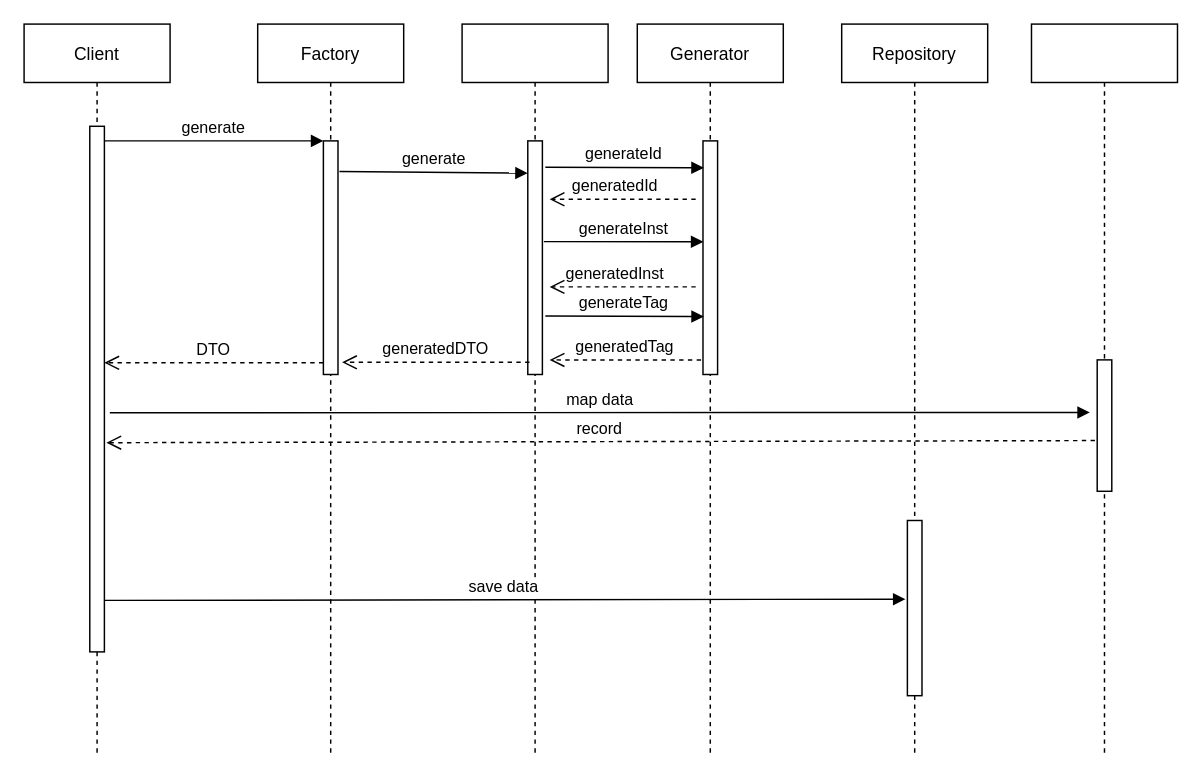
The diagram is 1202 pixels wide and 778 high, and some of its shapes have lost their labels. The centre of each missing label's shape, as x and y in pixels:
Builder: (x=534, y=388)
Mapper: (x=1103, y=388)
